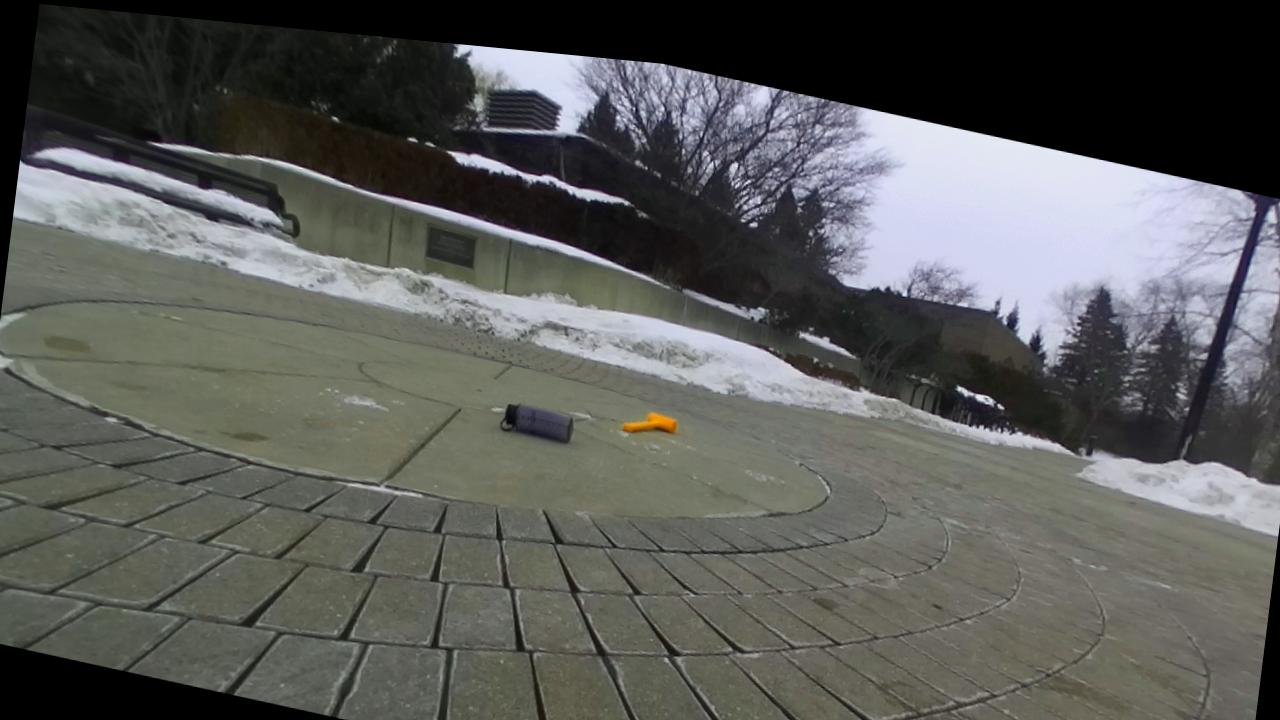bottle: (502, 403, 575, 443)
mallet: (623, 412, 677, 433)
